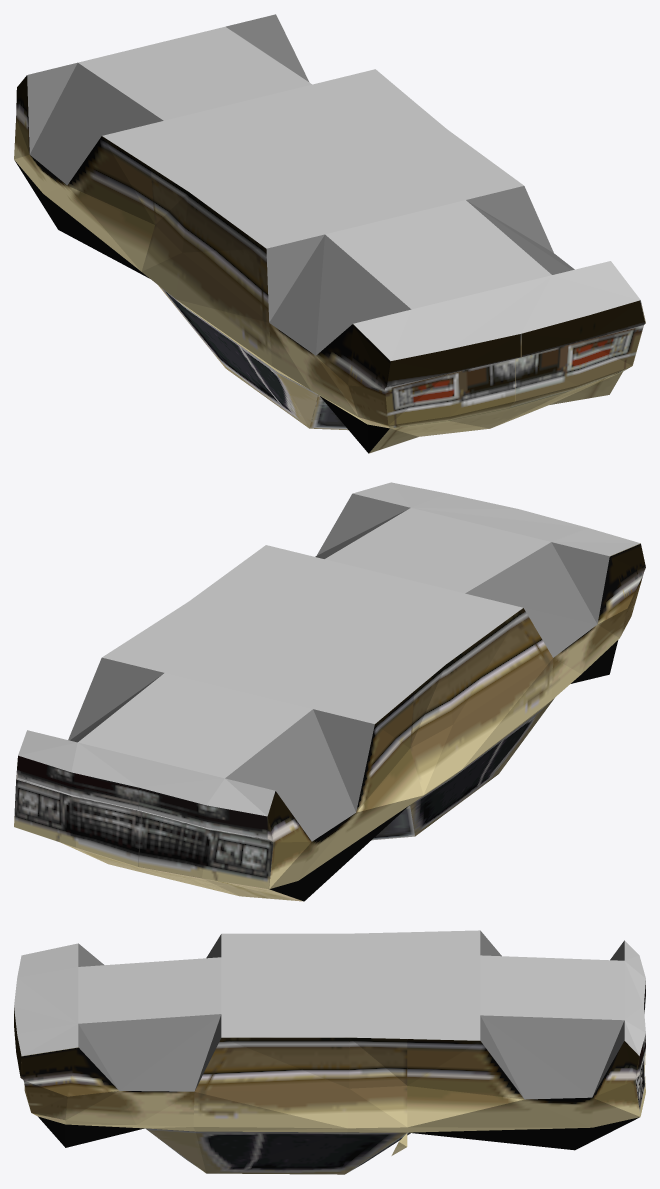
The model's file is RIO_model1_damaged.obj.
3 renders of one model, top to bottom at view 1: azimuth 30°, elevation 25°; view 2: azimuth 150°, elevation 25°; view 3: azimuth 270°, elevation 25°, orthographic. The views are drawn at different scales.
Parts seen in each view (by area): view 1: RIO_model1_damaged; view 2: RIO_model1_damaged; view 3: RIO_model1_damaged.
Boxes of the visible parts, x1,y1,x2,y2 form: RIO_model1_damaged: (14,14,645,453); RIO_model1_damaged: (14,482,645,901); RIO_model1_damaged: (14,930,645,1174).
Bounding box in the file's own units: 262 × 160 × 588.
